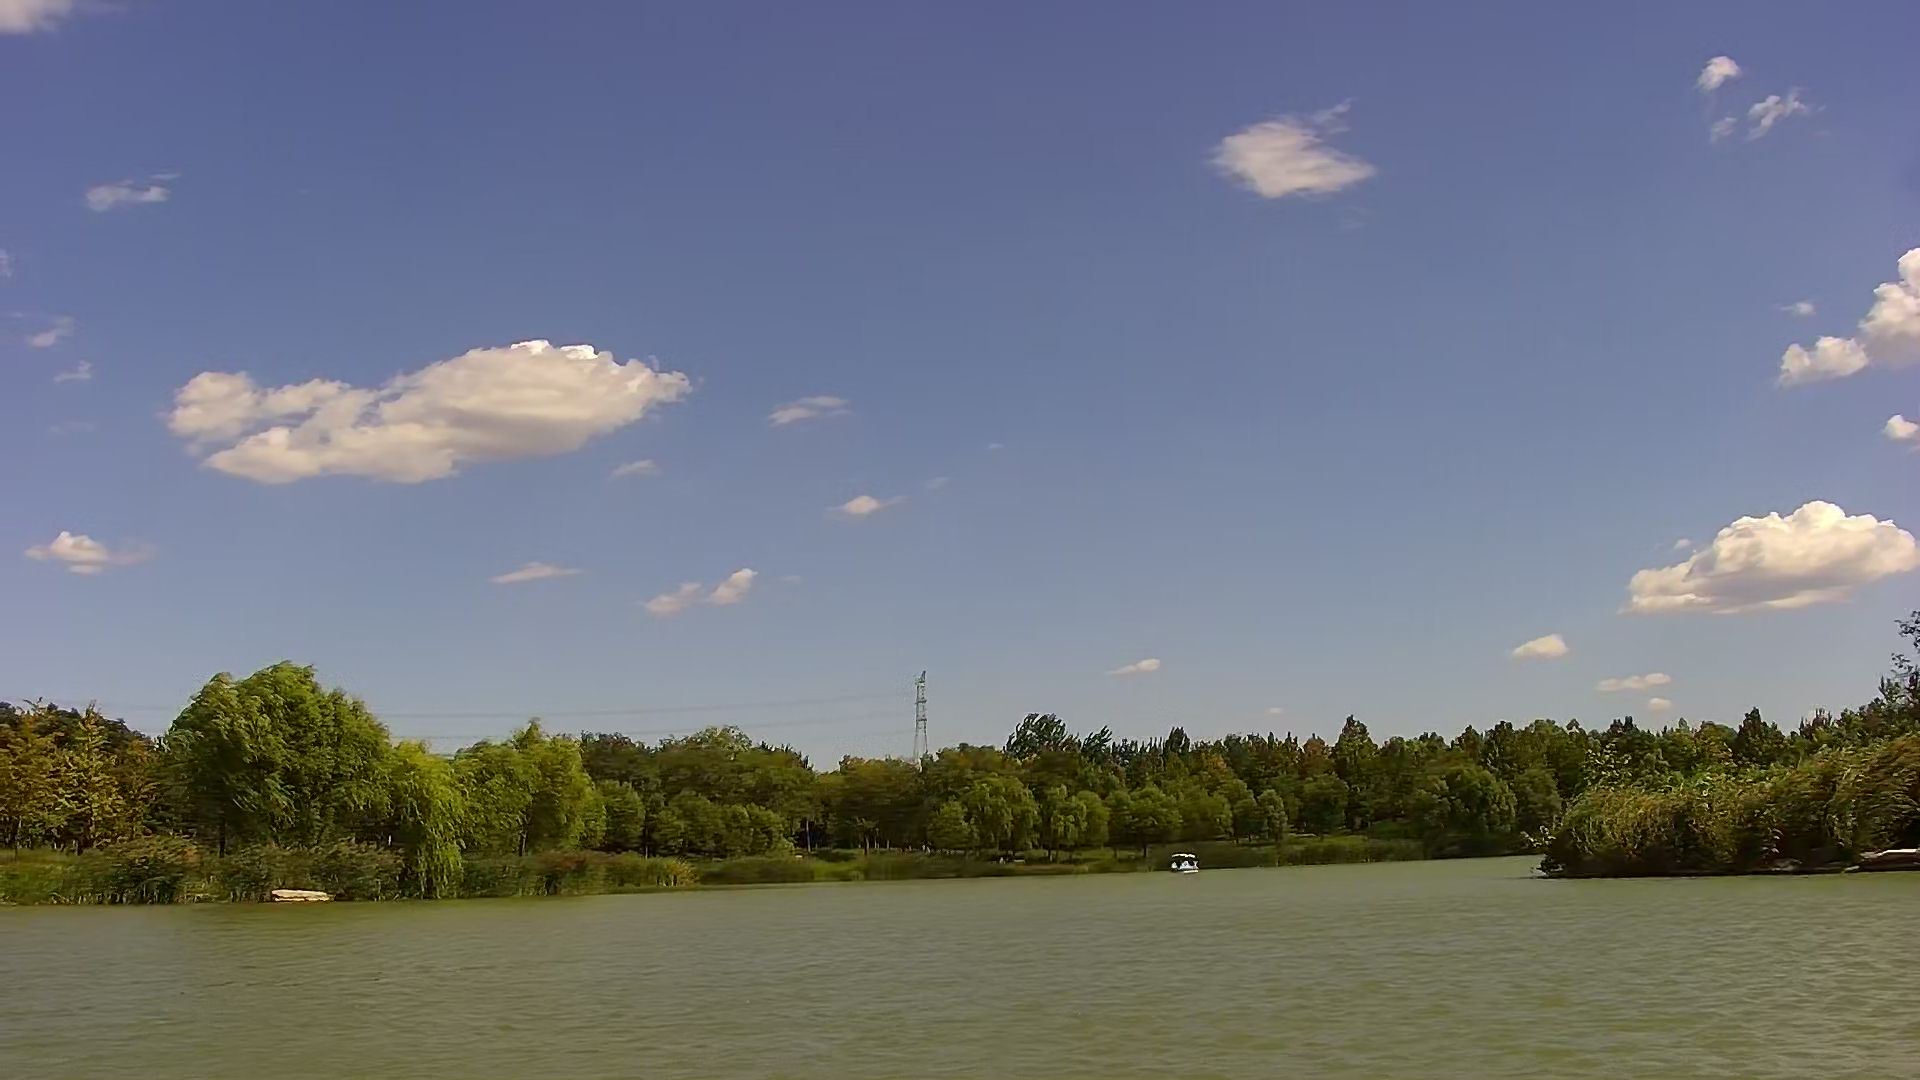boat: (1168, 853, 1203, 877)
